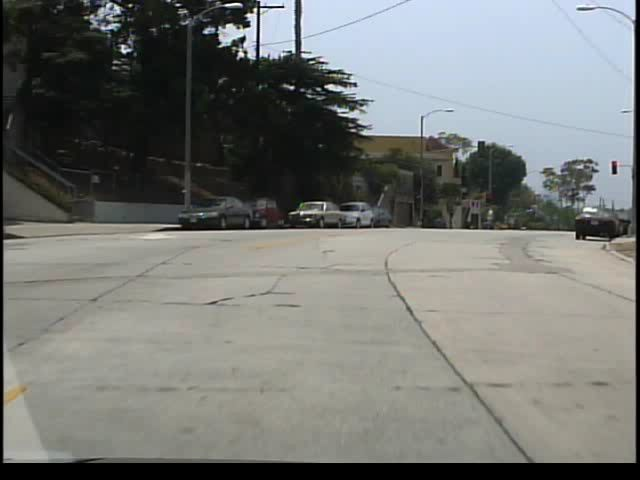person: (491, 206, 499, 229)
